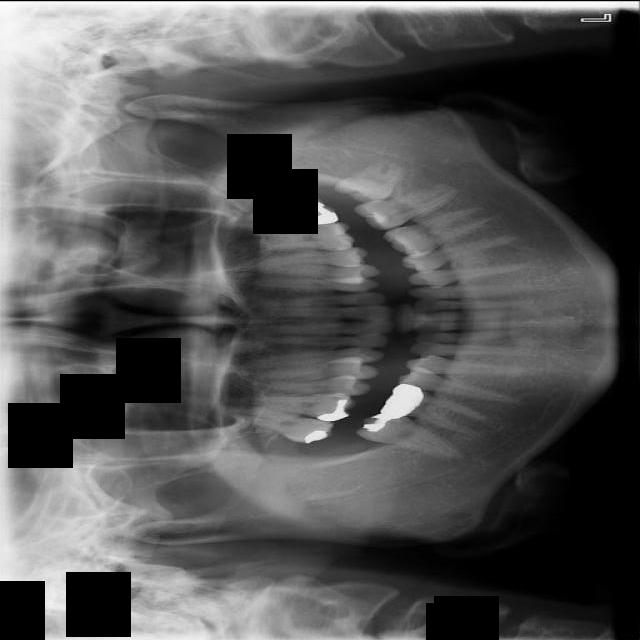52: (379, 375, 427, 428), (355, 408, 416, 445), (354, 197, 408, 232), (282, 416, 335, 443), (310, 392, 357, 421), (291, 197, 338, 225)
73: (585, 38, 601, 48)
BioHorizons Implant: (218, 195, 339, 234)
Biomet 3i Implant: (331, 153, 411, 217)
Blue Sky Bio Implant: (352, 184, 461, 235)
Caries: (214, 402, 336, 447)
Implant: (353, 403, 468, 462)
